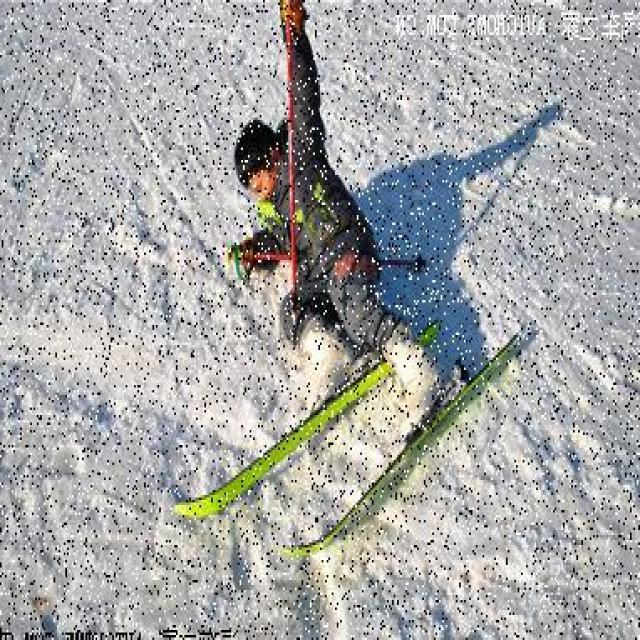fall: (233, 52, 442, 412)
